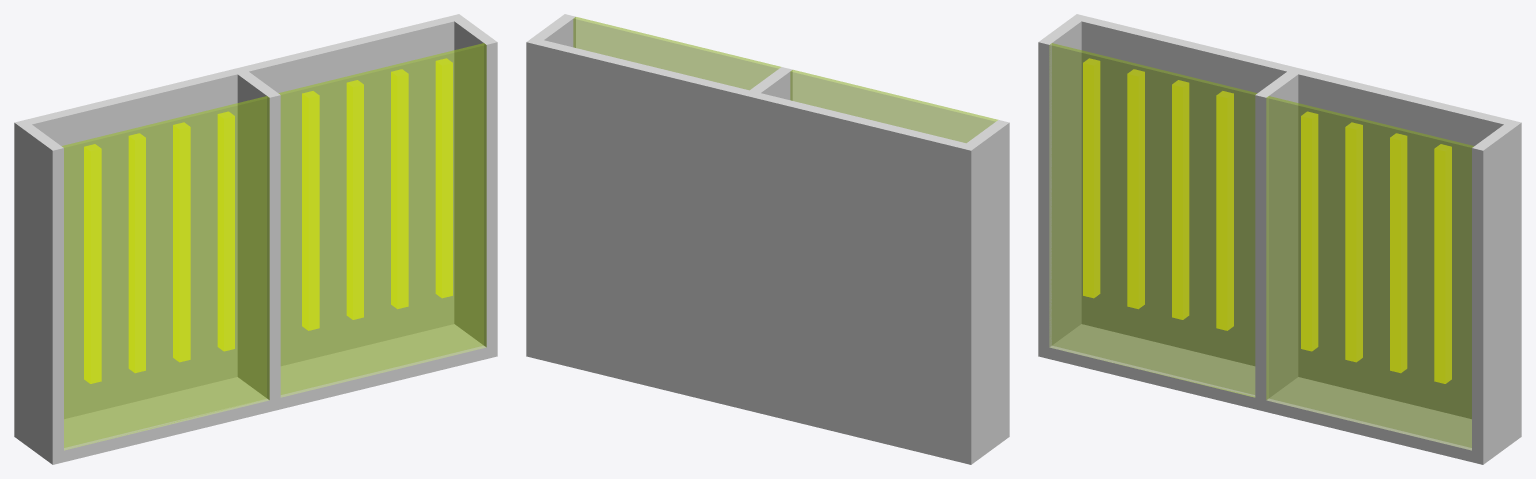
The model's file is neon_wall.glb.
3 renders of one model, left to right at view 1: azimuth 30°, elevation 25°; view 2: azimuth 150°, elevation 25°; view 3: azimuth 330°, elevation 25°, orthographic.
Visible parts, largest first — view 1: Cube.008; view 2: Cube.008; view 3: Cube.008.
Boxes of the visible parts, x1,y1,x2,y2 form: Cube.008: (14, 14, 497, 464); Cube.008: (526, 14, 1009, 464); Cube.008: (1038, 14, 1521, 464).
Size of the model in its own units: 4 by 2.7 by 0.6.
